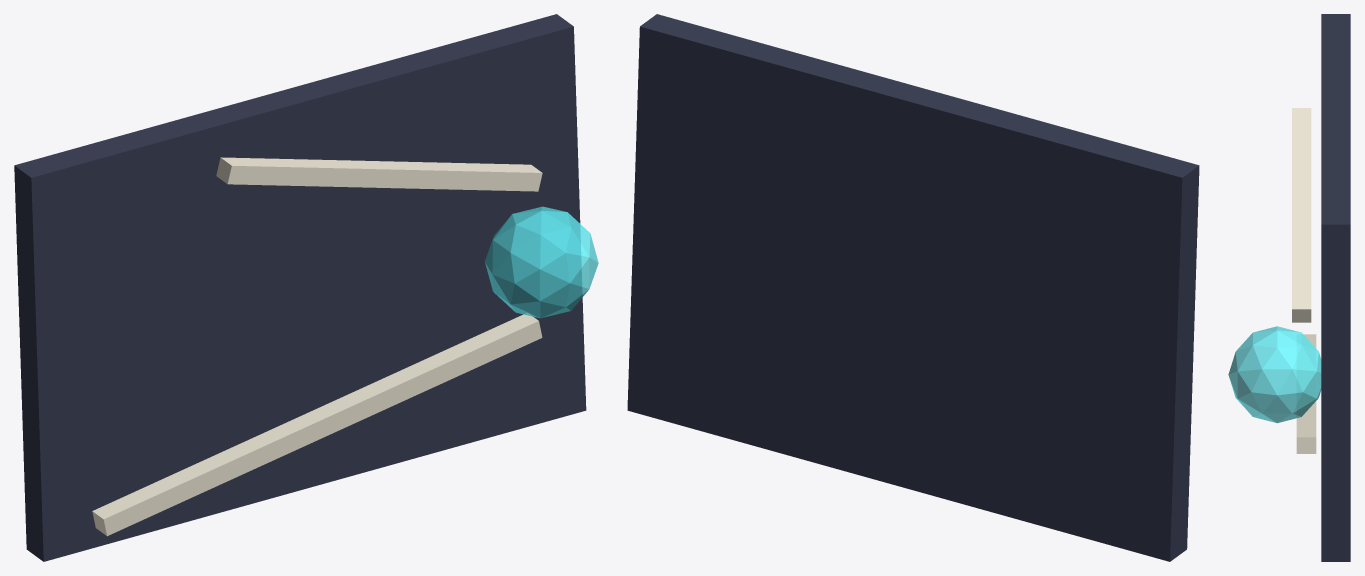
Rendered from 02_world_prop_polish.glb.
The picture shows the model from 3 angles, left to right: view 1: azimuth 30°, elevation 25°; view 2: azimuth 150°, elevation 25°; view 3: azimuth 270°, elevation 25°; orthographic projection. The views are drawn at different scales.
Parts seen in each view (by area): view 1: object_overlay_plate, edge_wear_a, glow_socket, edge_wear_b; view 2: object_overlay_plate; view 3: object_overlay_plate, glow_socket, edge_wear_b, edge_wear_a.
Boxes of the visible parts, box(x1,y1,x2,y2) form: object_overlay_plate: box(14, 14, 586, 561); edge_wear_a: box(92, 313, 542, 536); glow_socket: box(485, 206, 598, 318); edge_wear_b: box(216, 157, 542, 191); object_overlay_plate: box(627, 14, 1199, 561); object_overlay_plate: box(1321, 14, 1350, 561); glow_socket: box(1228, 326, 1321, 423); edge_wear_b: box(1292, 108, 1311, 322); edge_wear_a: box(1296, 334, 1316, 453).
Size of the model in its own units: 1.12 by 0.7864 by 0.25.
